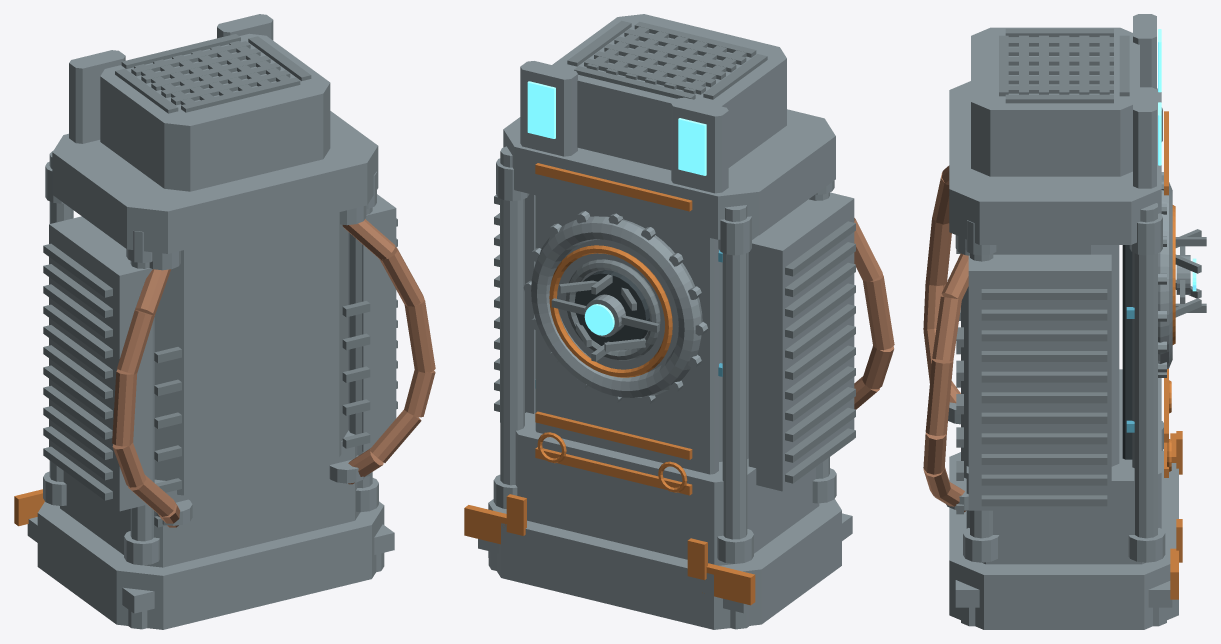
Rendered from dz_filtration_reactor.gltf.
The picture shows the model from 3 angles, left to right: view 1: azimuth 30°, elevation 25°; view 2: azimuth 150°, elevation 25°; view 3: azimuth 270°, elevation 25°; orthographic projection. The views are drawn at different scales.
Visible parts, largest first — view 1: HullSteel, SlatExchanger, Pipe_Coolant, HazardBands; view 2: HullSteel, SlatExchanger, HazardBands, LightBarLens, Pipe_Coolant, RecessInserts; view 3: HullSteel, SlatExchanger, Pipe_Coolant, HazardBands, RecessInserts, LightBarLens.
Part boxes in pixels (<box>): HullSteel: <box>27,14,396,629</box>; SlatExchanger: <box>43,34,397,527</box>; Pipe_Coolant: <box>112,219,435,527</box>; HazardBands: <box>14,489,44,526</box>; HullSteel: <box>478,14,854,629</box>; SlatExchanger: <box>494,20,855,483</box>; HazardBands: <box>464,163,755,605</box>; LightBarLens: <box>527,81,706,335</box>; Pipe_Coolant: <box>854,218,894,409</box>; RecessInserts: <box>574,270,650,345</box>; HullSteel: <box>946,14,1190,629</box>; SlatExchanger: <box>956,28,1206,514</box>; Pipe_Coolant: <box>923,165,968,512</box>; HazardBands: <box>1164,111,1182,599</box>; RecessInserts: <box>1122,245,1132,459</box>; LightBarLens: <box>1158,29,1196,291</box>.
Size of the model in its own units: 1.74 by 2.55 by 1.31.
